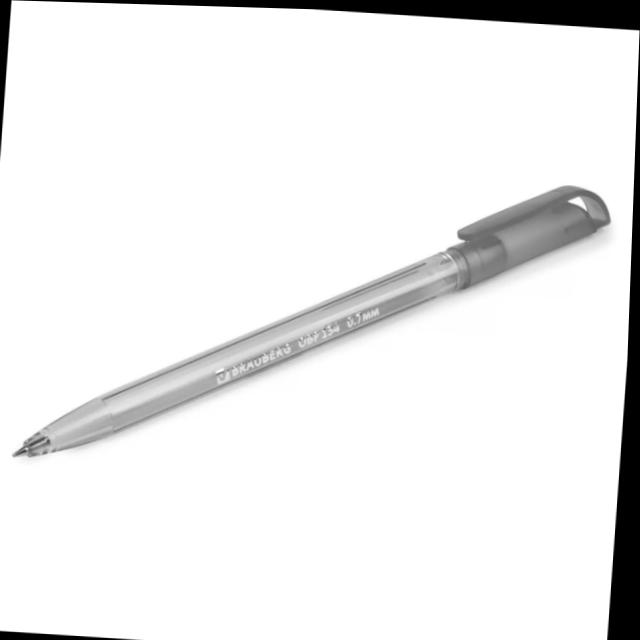pen: (11, 149, 614, 496)
